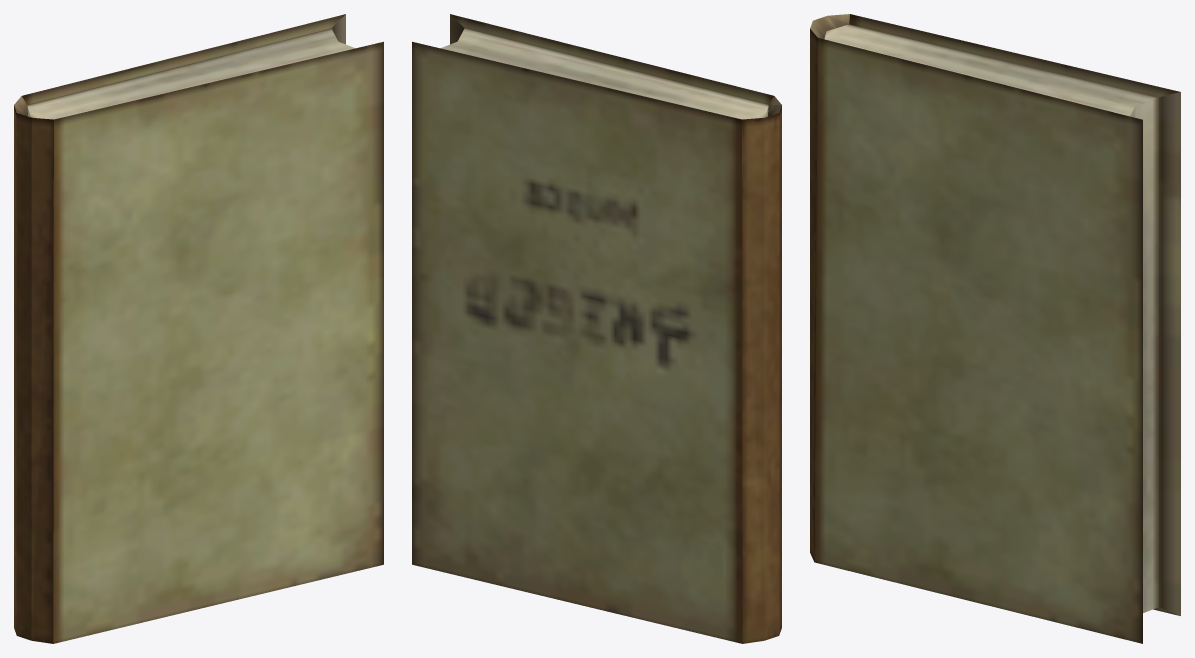
The model's file is Sheep_noviceBook.obj.
3 views of the same model, side by side, from view 1: azimuth 30°, elevation 25°; view 2: azimuth 150°, elevation 25°; view 3: azimuth 330°, elevation 25° (orthographic).
Parts seen in each view (by area): view 1: Sheep_noviceBook_tri; view 2: Sheep_noviceBook_tri; view 3: Sheep_noviceBook_tri.
Boxes of the visible parts, x1=… form: Sheep_noviceBook_tri: x1=14, y1=14, x2=383, y2=643; Sheep_noviceBook_tri: x1=412, y1=14, x2=781, y2=643; Sheep_noviceBook_tri: x1=810, y1=14, x2=1180, y2=643.
Size of the model in its own units: 0.2148 by 0.3082 by 0.0404.
Materials: 1 (1 with a texture image).
